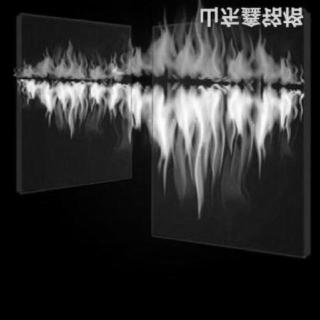Fire: (19, 76, 305, 216)
